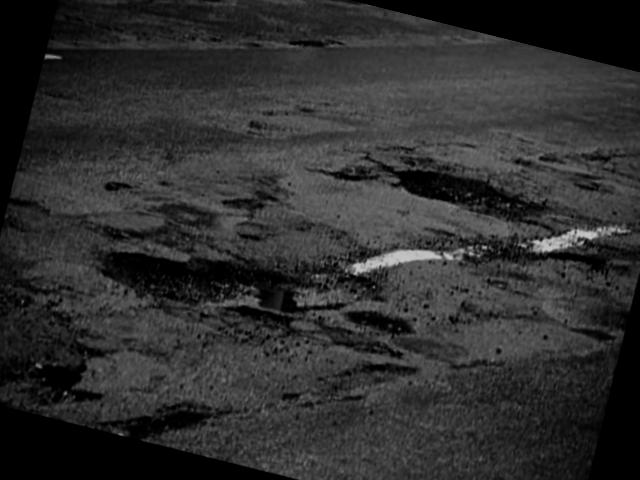Pothole: (68, 197, 394, 373), (0, 250, 242, 459), (368, 136, 558, 238)
